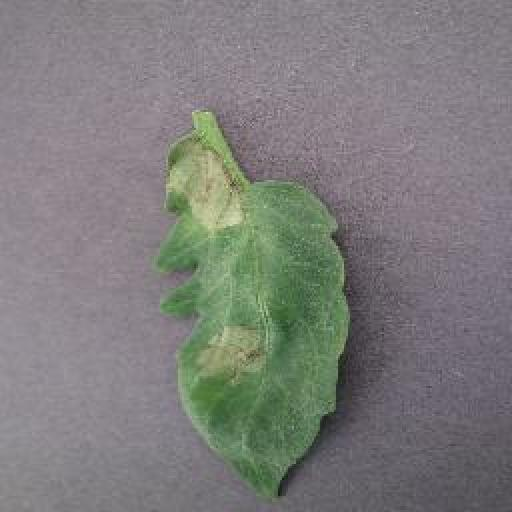disease_tomato: (154, 133, 354, 503)
